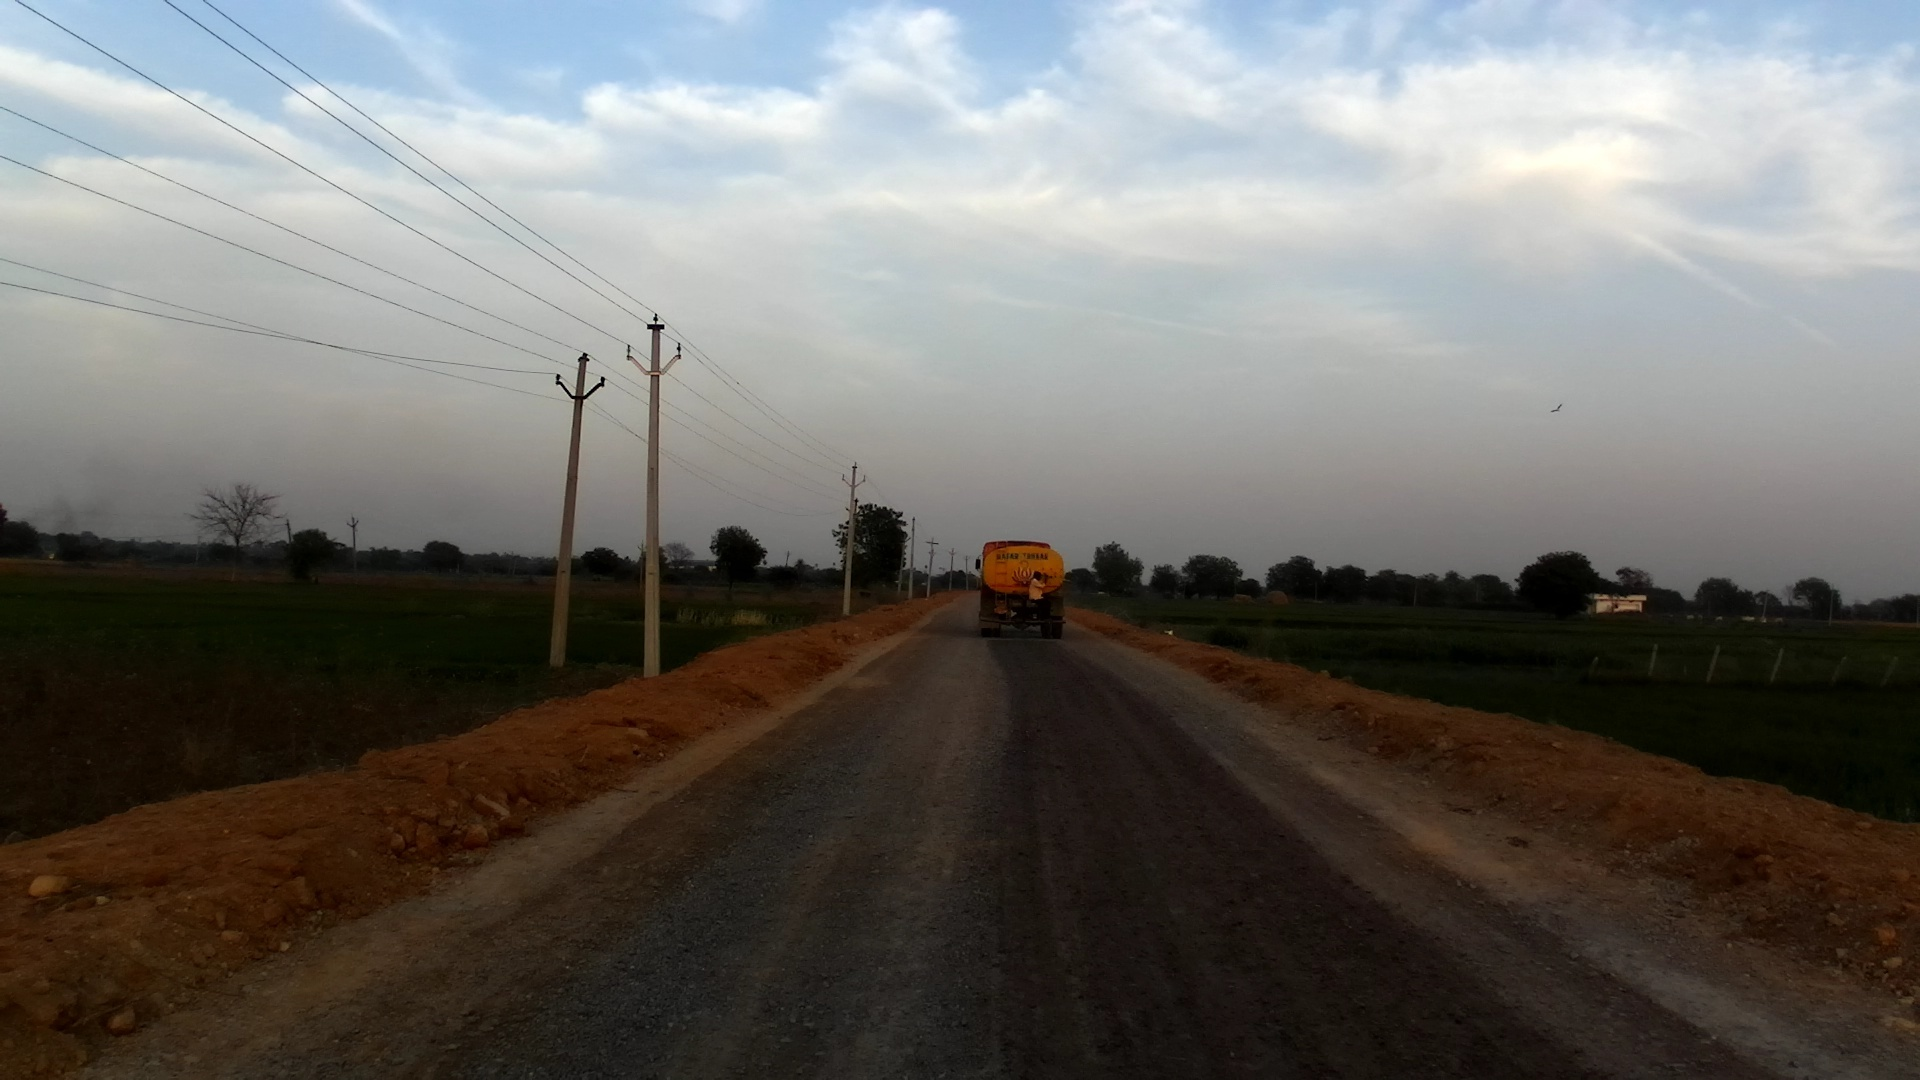truck: (976, 539, 1065, 644)
